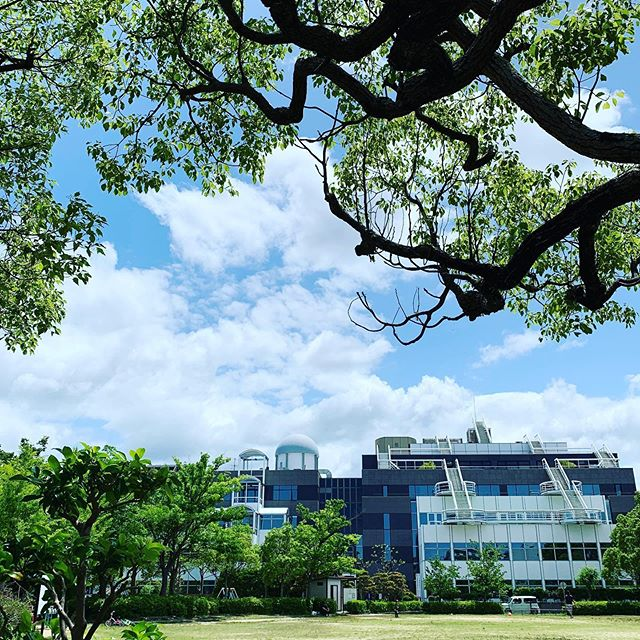building: (378, 435, 635, 599), (217, 460, 362, 581)
sky: (1, 287, 628, 439)
tree: (18, 1, 640, 335), (15, 450, 151, 640), (144, 458, 240, 608), (249, 494, 357, 602)
